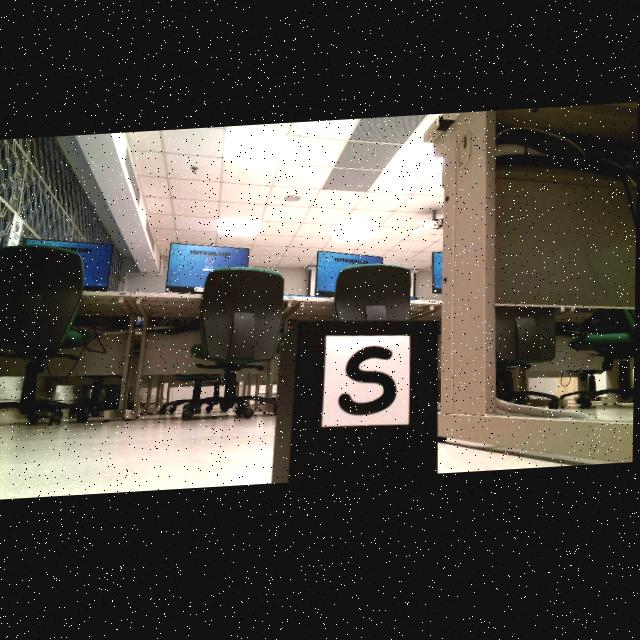S: (340, 351, 398, 419)
